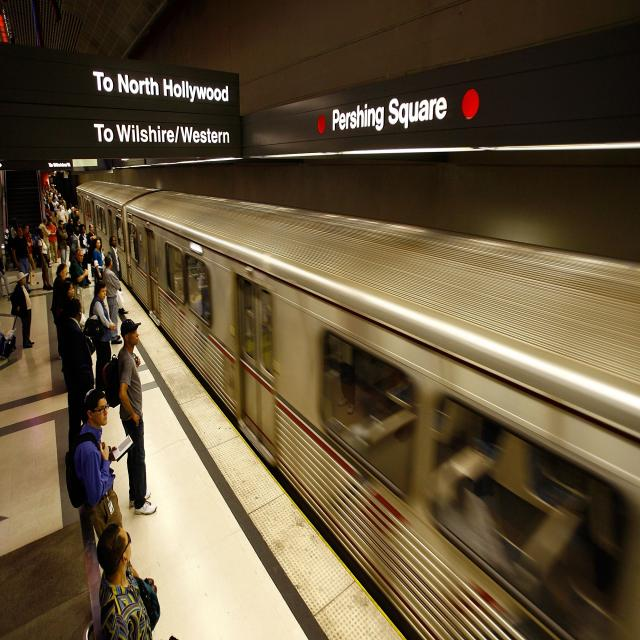body: (74, 388, 140, 578), (117, 318, 158, 517), (95, 522, 160, 640), (56, 297, 96, 451), (168, 238, 210, 316), (89, 279, 116, 392), (40, 179, 84, 244), (8, 271, 36, 351), (100, 253, 124, 346), (107, 235, 129, 316), (51, 263, 69, 358), (0, 221, 17, 299), (70, 246, 89, 314), (36, 227, 54, 292), (12, 226, 30, 290), (38, 217, 52, 268), (86, 223, 98, 278), (23, 225, 36, 273), (46, 218, 59, 264), (77, 222, 90, 266), (92, 236, 104, 283), (56, 219, 68, 265), (68, 227, 81, 264), (130, 223, 141, 262), (62, 279, 75, 311), (56, 204, 68, 231)
